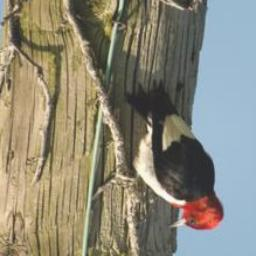Woodpecker: (110, 79, 227, 232)
